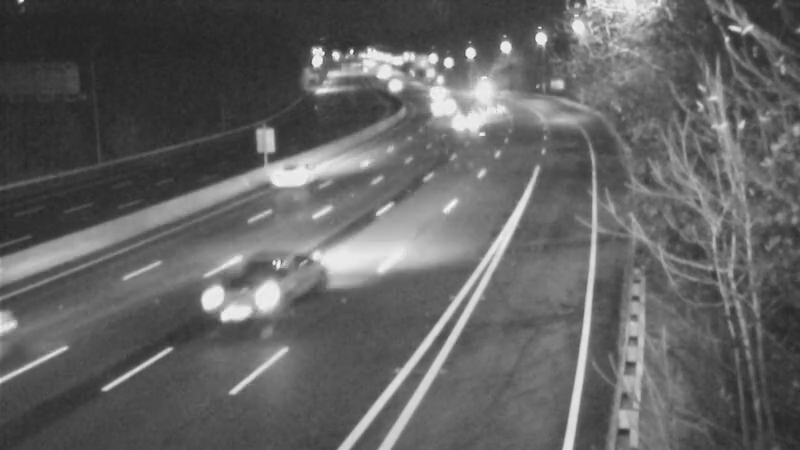vehicle: (244, 133, 324, 213), (204, 248, 284, 328), (364, 61, 414, 111), (412, 69, 462, 119), (456, 69, 506, 119), (422, 82, 472, 132), (466, 87, 516, 137), (435, 98, 485, 148)
